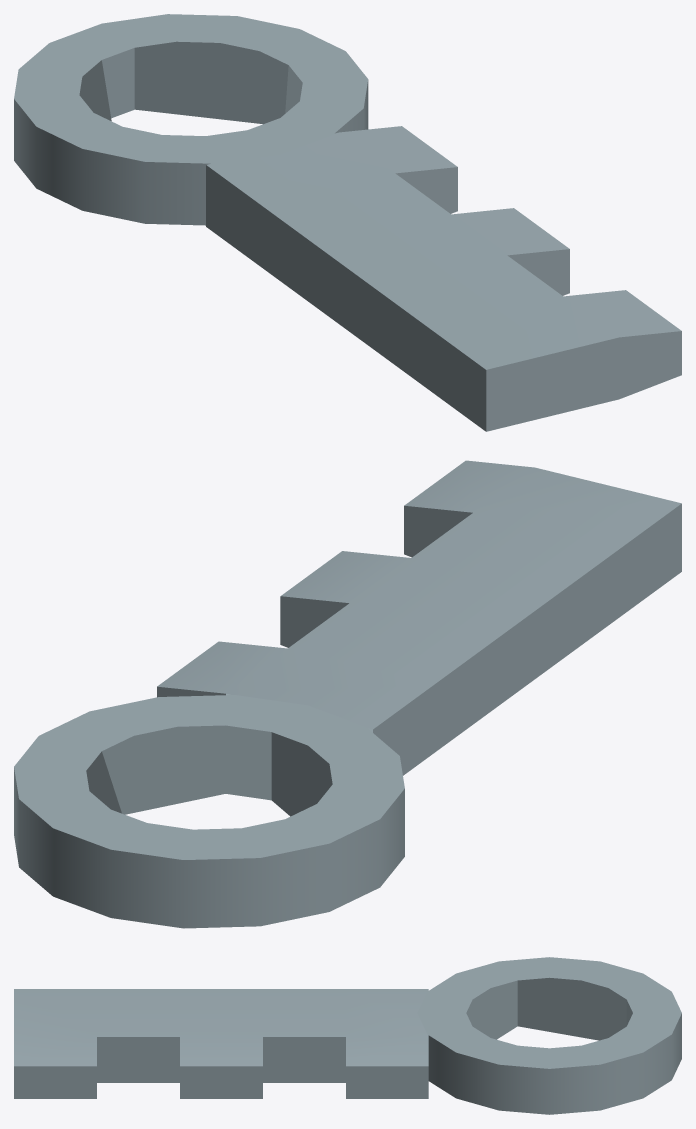
The model's file is Key.fbx.
The picture shows the model from 3 angles, top to bottom: view 1: azimuth 30°, elevation 25°; view 2: azimuth 150°, elevation 25°; view 3: azimuth 270°, elevation 25°; orthographic projection. The views are drawn at different scales.
Visible parts, largest first — view 1: Key; view 2: Key; view 3: Key.
Boxes of the visible parts, <box> form: Key: <box>14,14,681,431</box>; Key: <box>14,460,681,928</box>; Key: <box>14,957,681,1114</box>.
Bounding box in the file's own units: 11.14 × 2.13 × 28.12.
